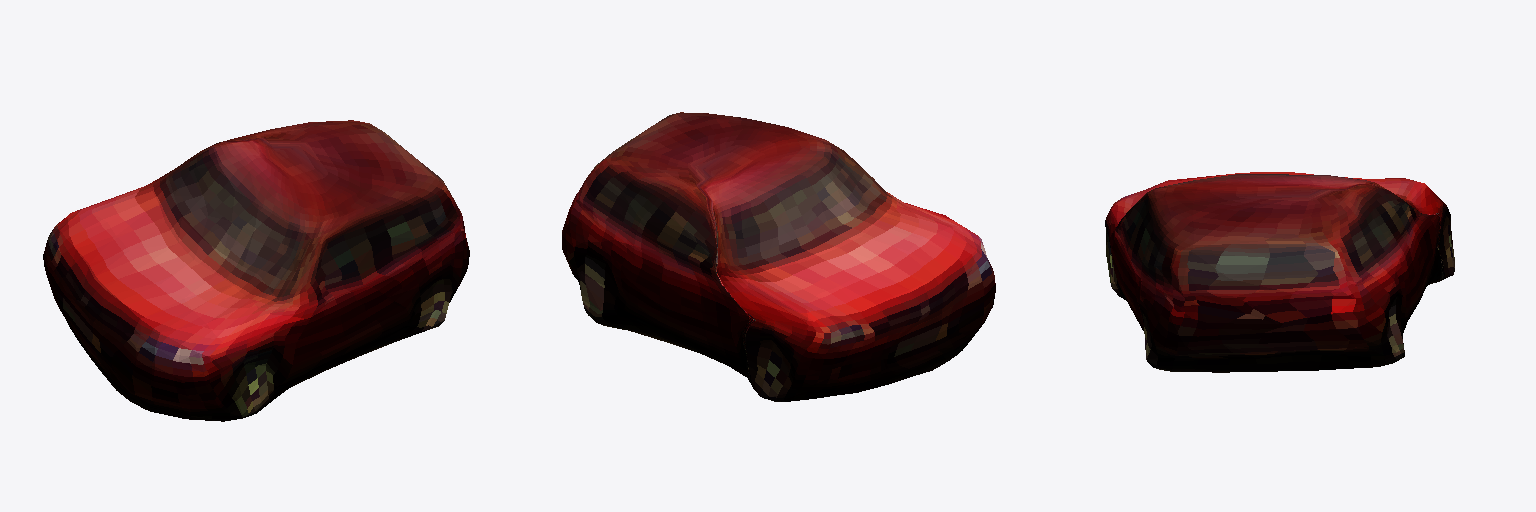
3 renders of one model, left to right at view 1: azimuth 30°, elevation 25°; view 2: azimuth 150°, elevation 25°; view 3: azimuth 270°, elevation 25°, orthographic.
Size of the model in its own units: 1 by 0.4925 by 0.8915.
1 materials, 1 textured.